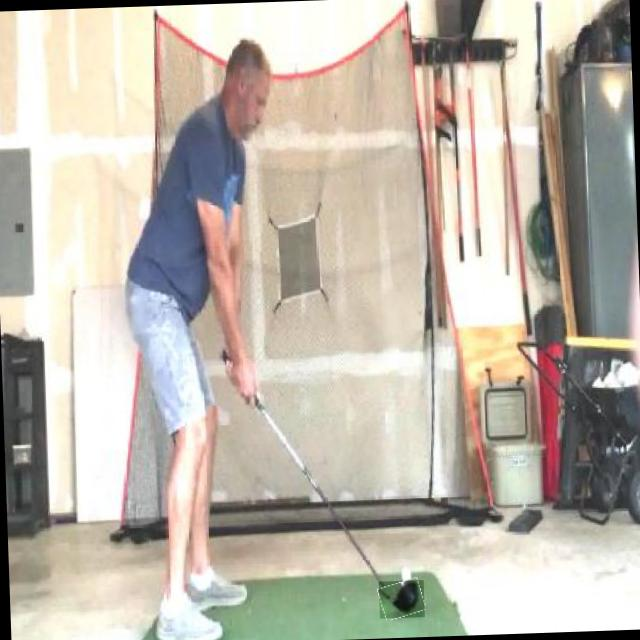club head: (378, 580, 424, 618)
